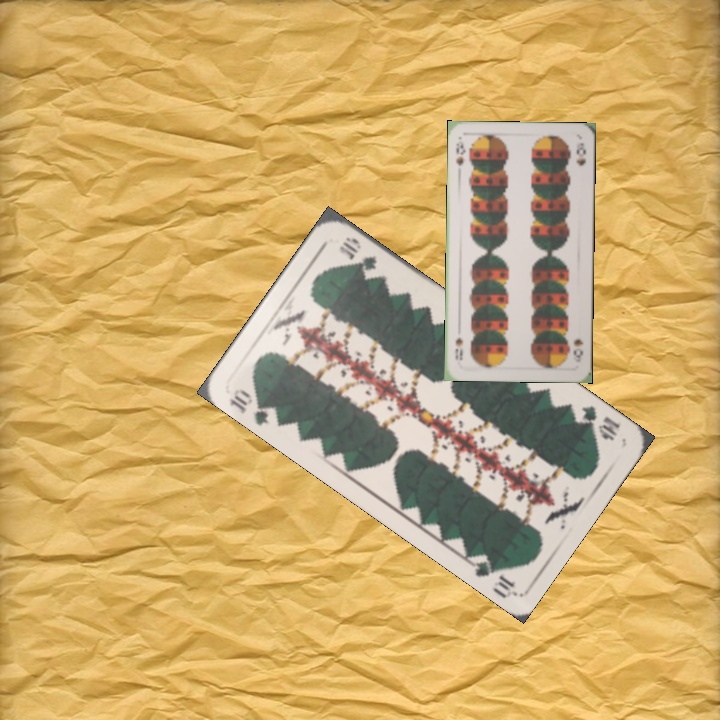G10: (224, 385, 281, 428), (575, 401, 623, 444)
S8: (452, 137, 468, 168), (569, 335, 585, 361)
